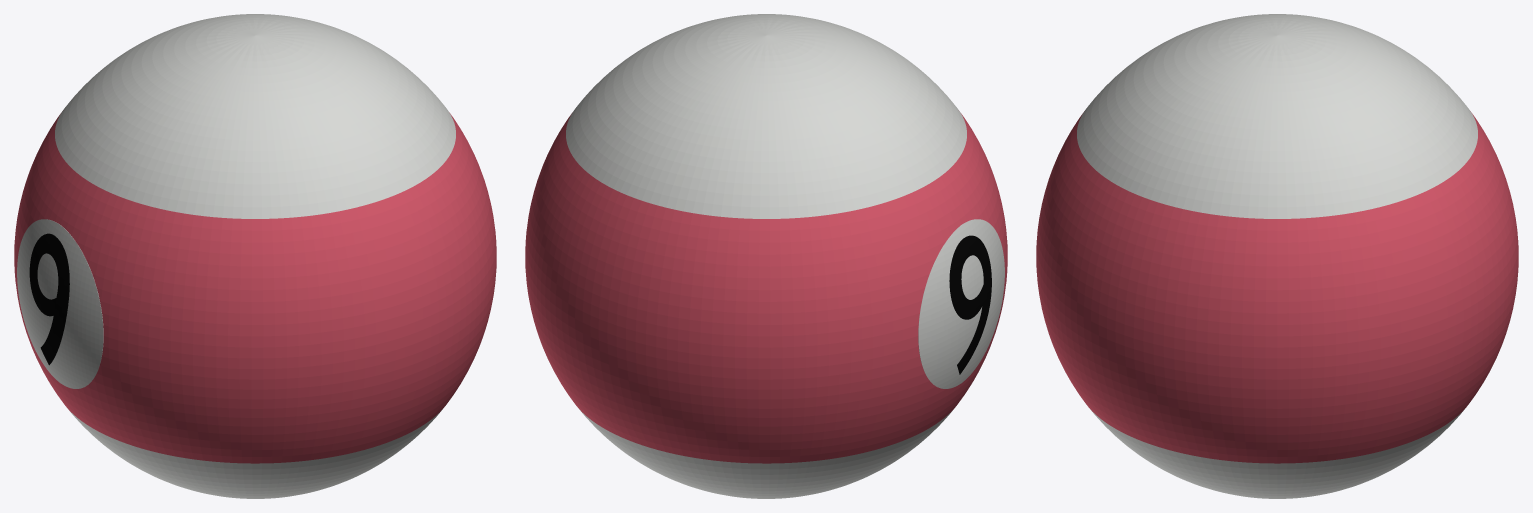
The model's file is Ball#6.fbx.
The picture shows the model from 3 angles, left to right: view 1: azimuth 30°, elevation 25°; view 2: azimuth 150°, elevation 25°; view 3: azimuth 270°, elevation 25°; orthographic projection.
Parts seen in each view (by area): view 1: Sphere, Sphere.001, Text; view 2: Sphere, Sphere.001, Text; view 3: Sphere.
Boxes of the visible parts, bbox=[...] form: Sphere: bbox=[14, 14, 496, 498]; Sphere.001: bbox=[17, 219, 103, 388]; Text: bbox=[29, 233, 69, 365]; Sphere: bbox=[525, 14, 1007, 498]; Sphere.001: bbox=[918, 219, 1004, 388]; Text: bbox=[949, 235, 991, 374]; Sphere: bbox=[1036, 14, 1518, 498].
Bounding box in the file's own units: 198 × 200 × 198.
